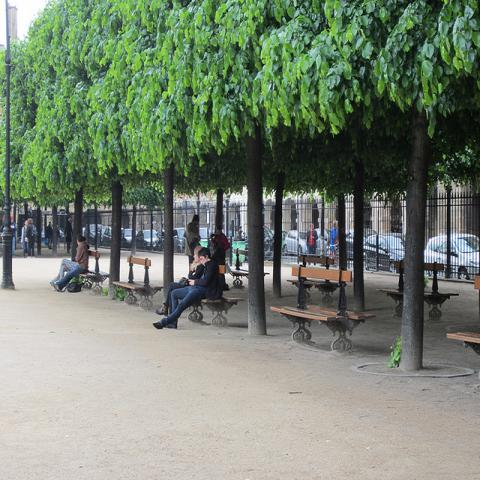car: (424, 233, 480, 281), (364, 233, 405, 272), (284, 230, 308, 253), (136, 230, 159, 249), (314, 228, 329, 256), (173, 228, 186, 253), (344, 228, 354, 260), (121, 228, 138, 243), (84, 224, 96, 245), (103, 226, 112, 246)
